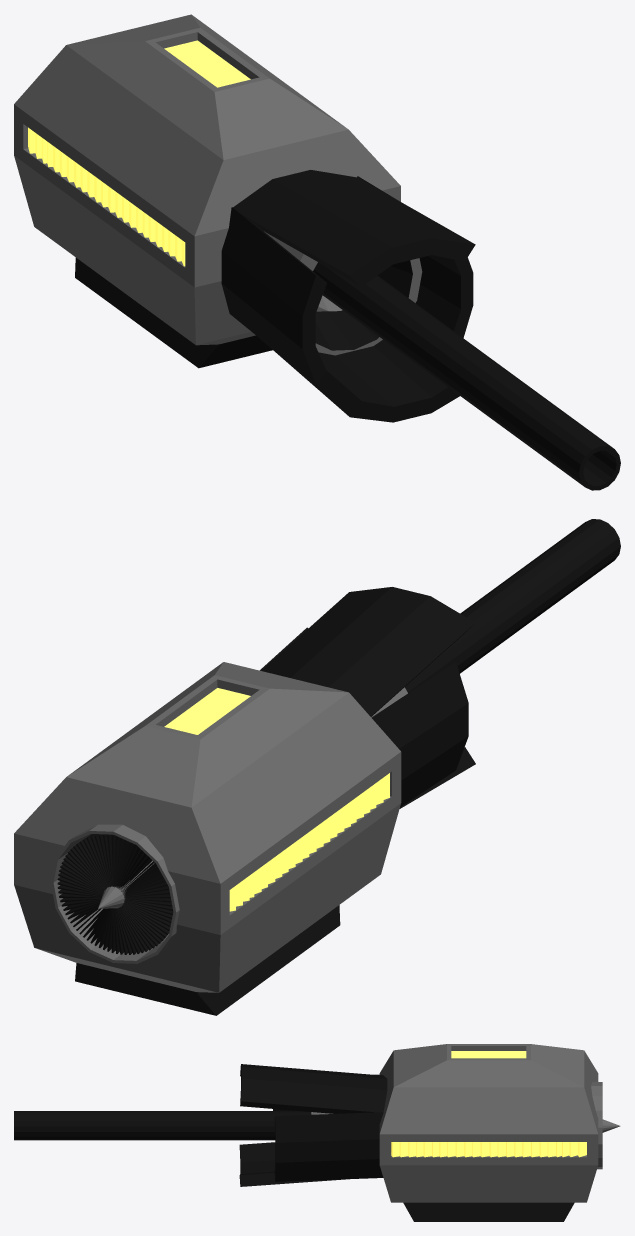
The model's file is Size5AresCannon.glb.
3 renders of one model, top to bottom at view 1: azimuth 30°, elevation 25°; view 2: azimuth 150°, elevation 25°; view 3: azimuth 270°, elevation 25°, orthographic. The views are drawn at different scales.
Visible parts, largest first — view 1: Size5AresCannon; view 2: Size5AresCannon; view 3: Size5AresCannon.
Part boxes in pixels (x1=…): Size5AresCannon: x1=14, y1=14, x2=620, y2=490; Size5AresCannon: x1=14, y1=519, x2=620, y2=1015; Size5AresCannon: x1=14, y1=1044, x2=620, y2=1221.
Bounding box in the file's own units: 0.9635 × 1.1 × 4.05.
